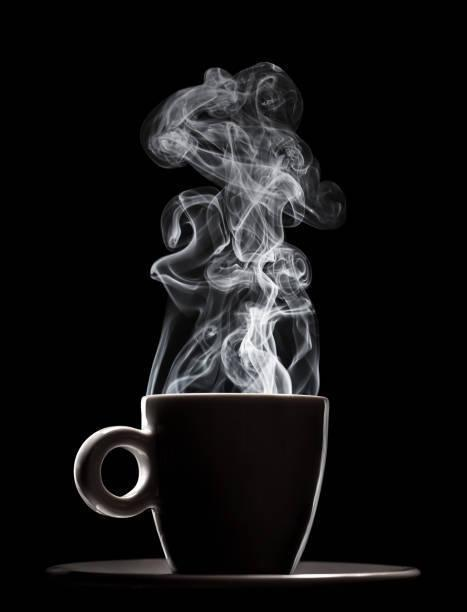cup-handle: (73, 391, 331, 576)
